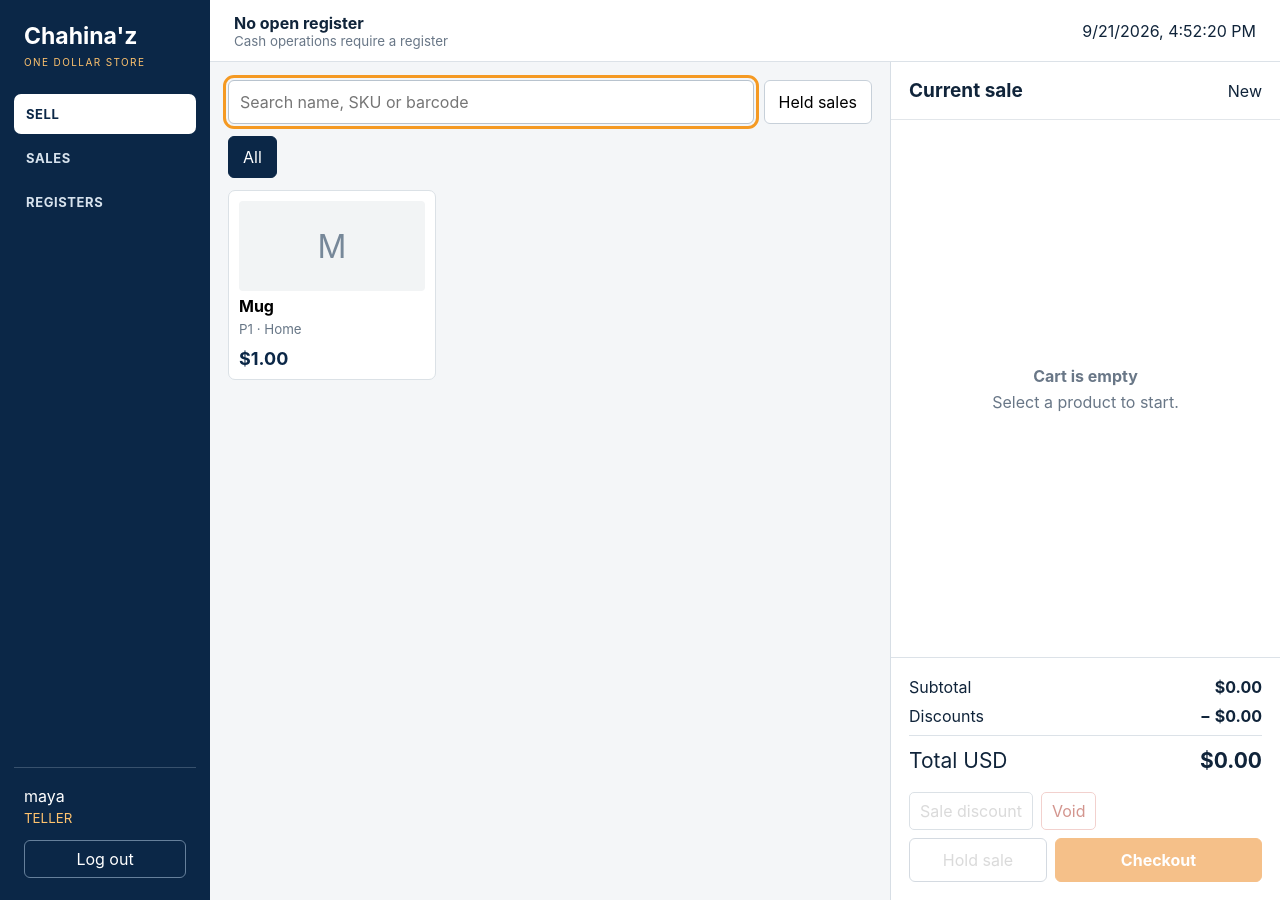
Test case: cashier behavior › adds a product, changes quantity, and removes it
Click the button "M Mug P1 · Home $1.00": click(332, 285) [228,190,436,380]
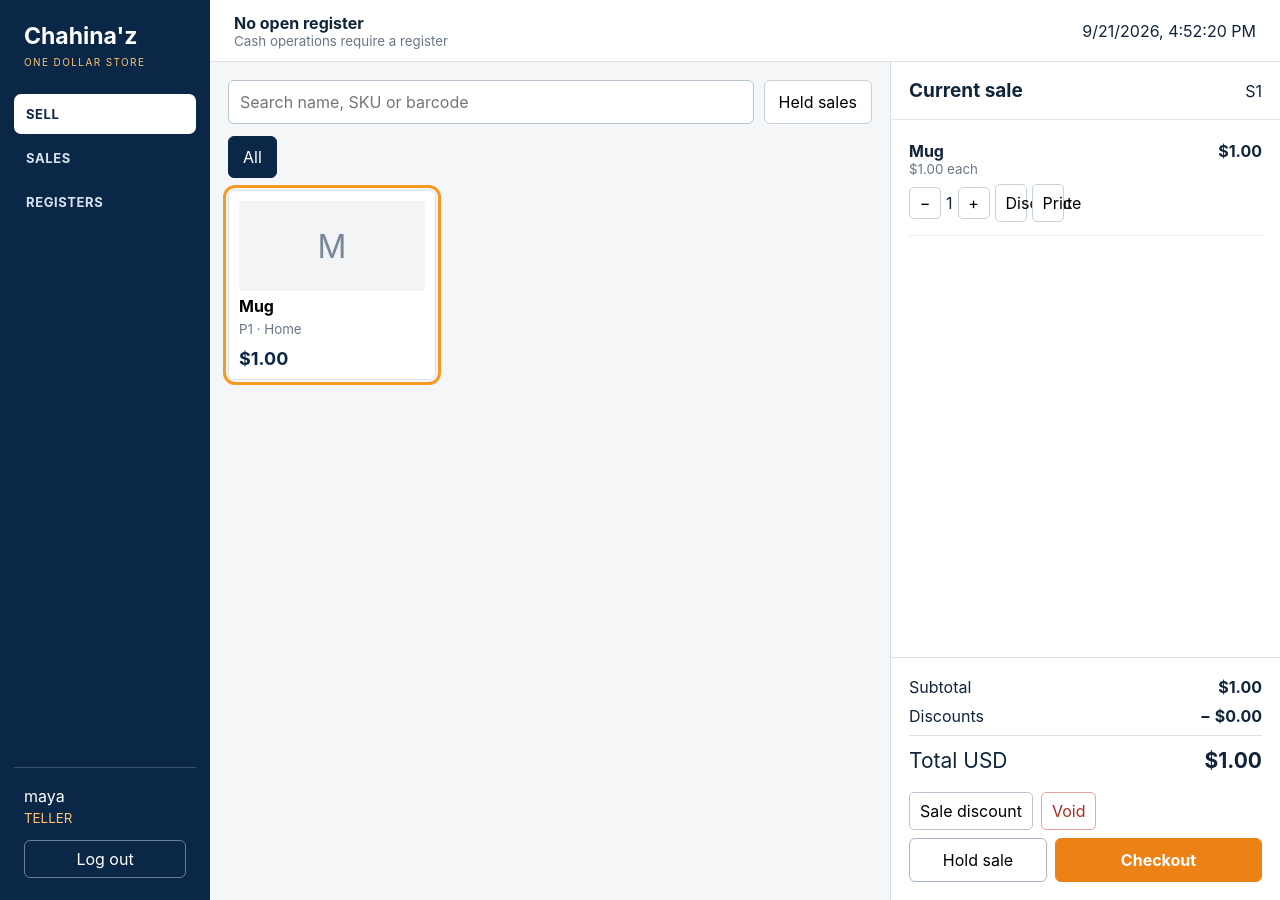
Expected: the text "1" is shown, [946,193,952,213]
Click the button named "Increase Mug": click(974, 203) [958,187,990,219]
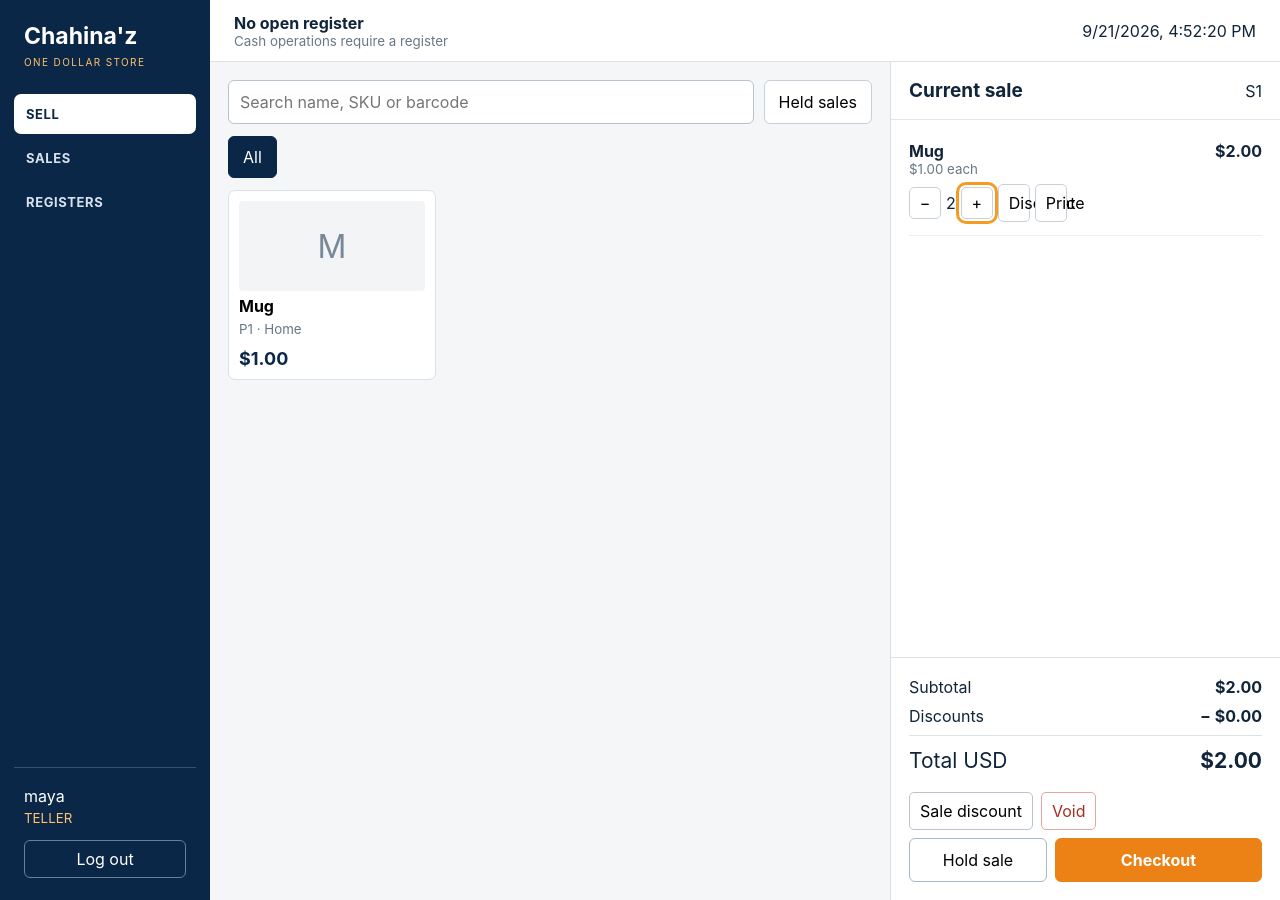
Expected: the text "2" is shown, [946,193,956,213]
Click the button named "Decrease Mug": click(925, 203) [909,187,941,219]
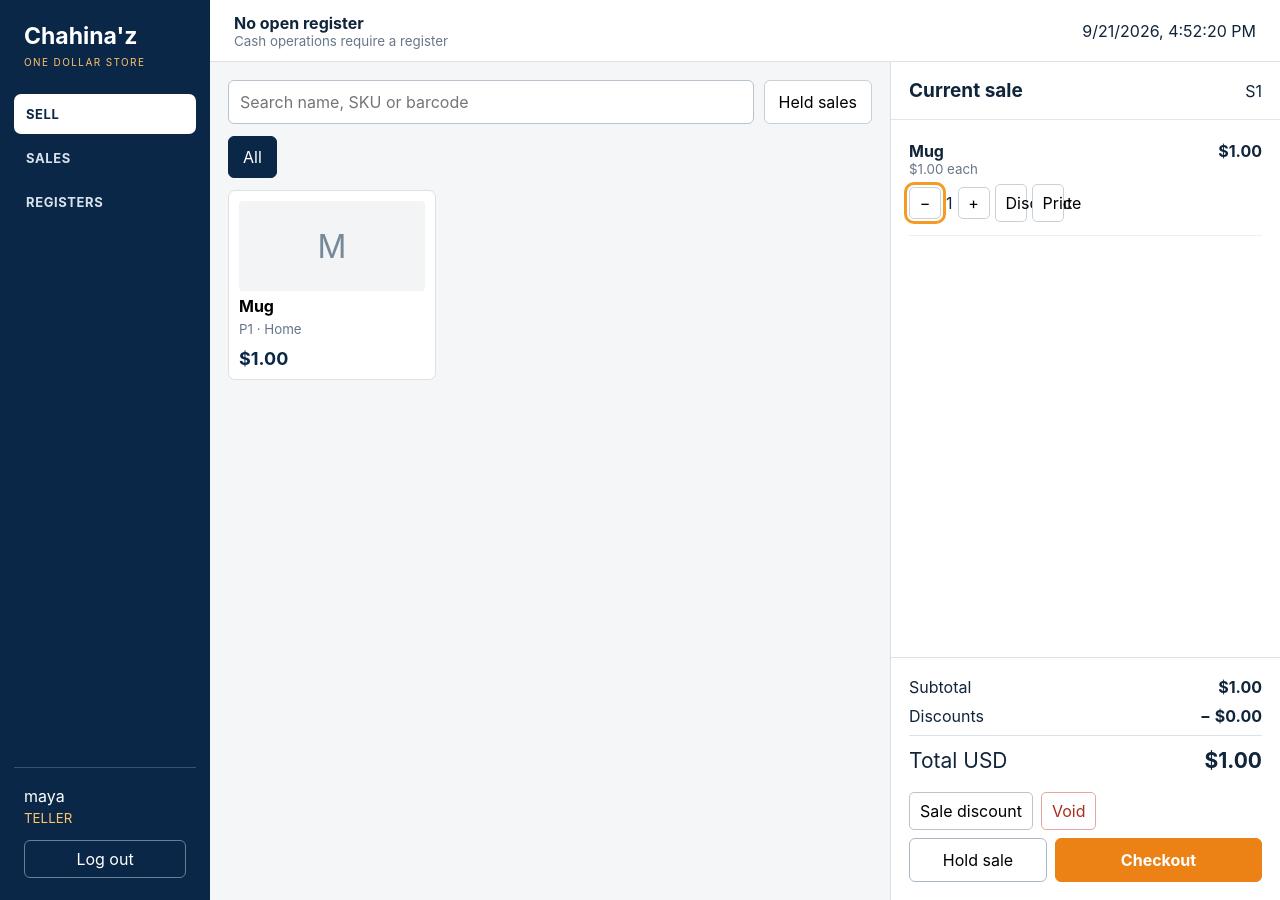
Click the button named "Decrease Mug": click(925, 203) [909,187,941,219]
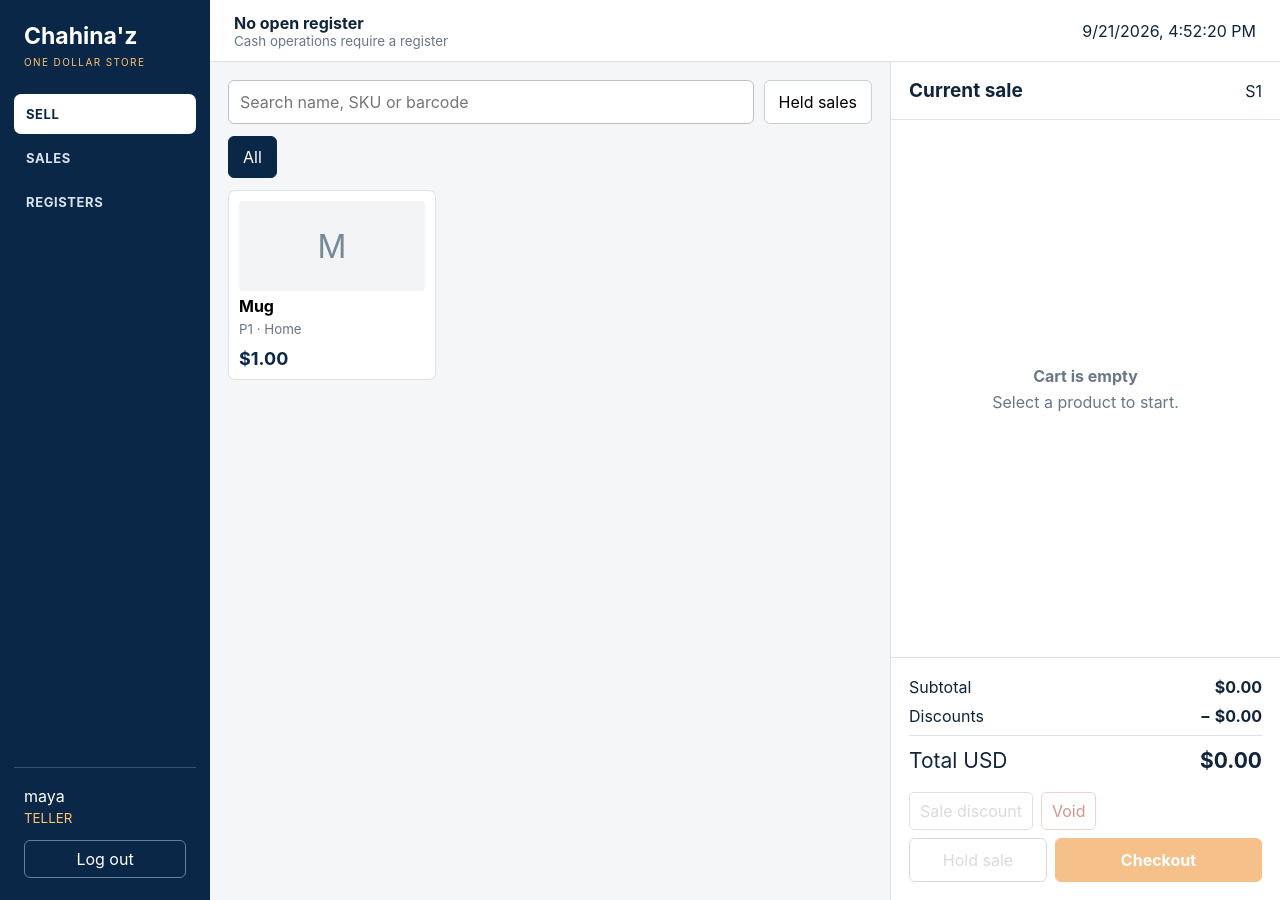
Expected: the text "Cart is empty" is shown, [1033,366,1138,386]
